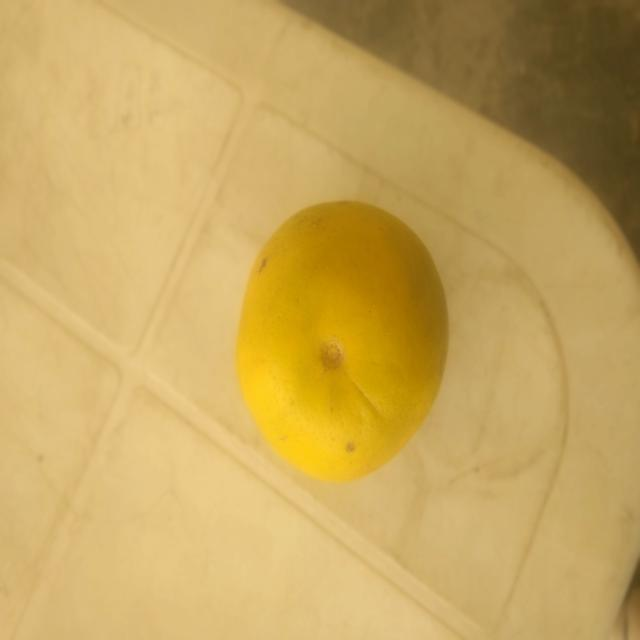Ripe orange: (206, 170, 488, 505)
